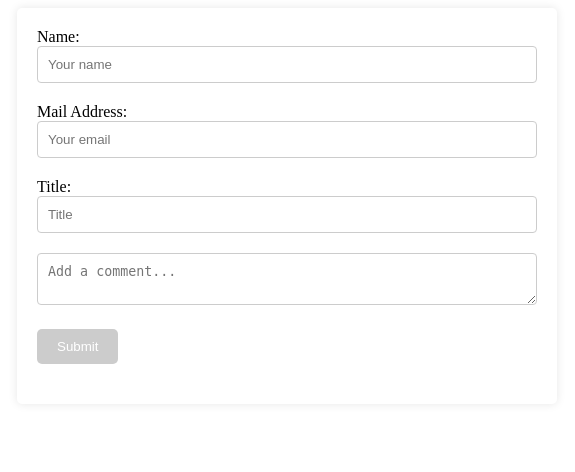
Scenario: draft survives network until persistence
Type "Reader" into the field labelled "Name:" at (287, 64), box x1=37 y1=46 x2=537 y2=83
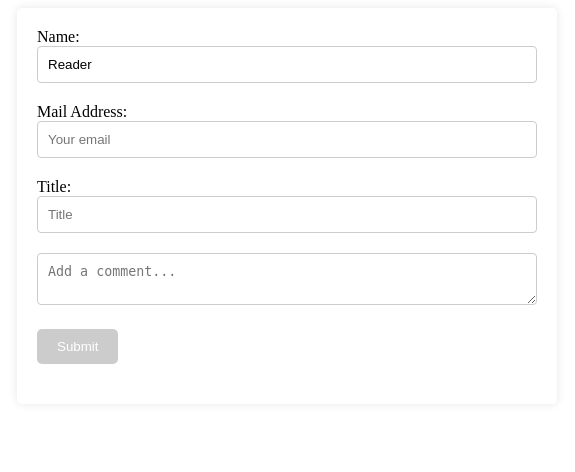
Type "Keep this draft" into the text box with placeholder "Add a comment..." at (287, 279), box x1=37 y1=253 x2=537 y2=305
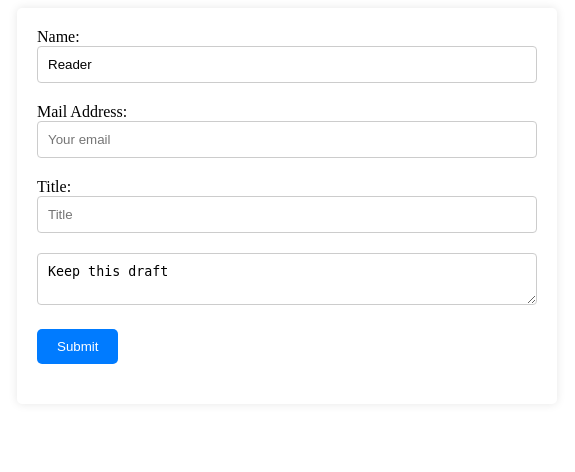
Click the button "Submit" at (78, 346), box x1=37 y1=329 x2=118 y2=364
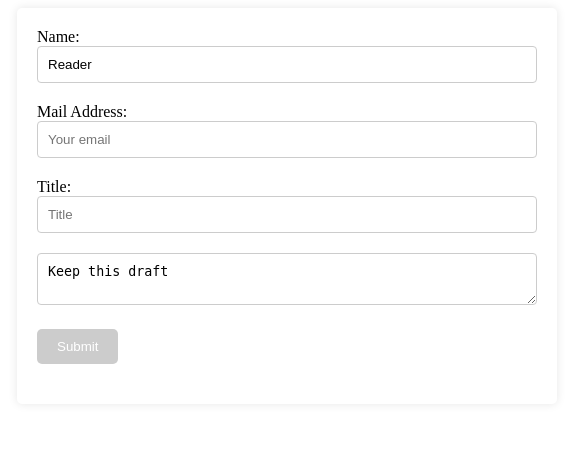
expect the button "Submit" is disabled: met
Click the button "Submit" at (78, 346), box x1=37 y1=329 x2=118 y2=364
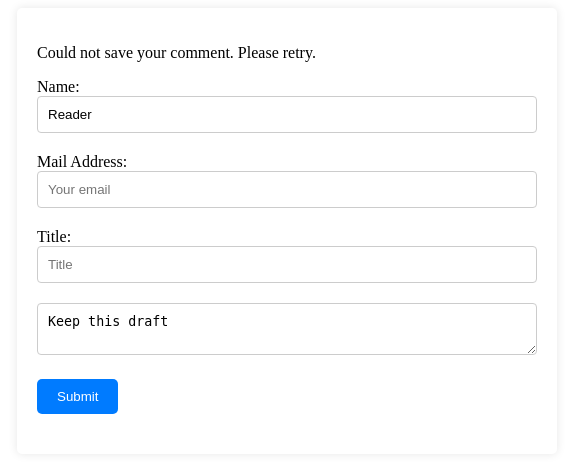
expect the message "Could not save your comment. Please retry." is shown: met, box x1=37 y1=44 x2=316 y2=61
